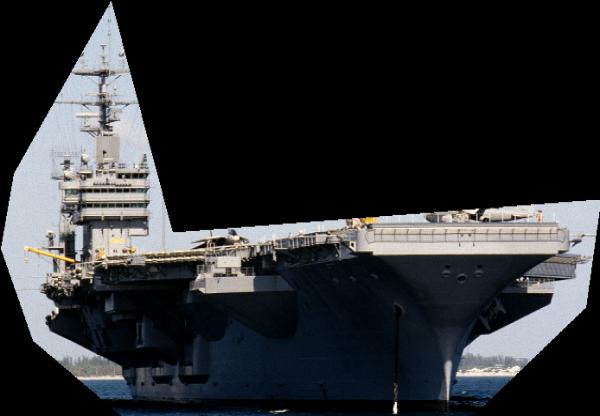Aircraft Carrier: (1, 1, 600, 416)
